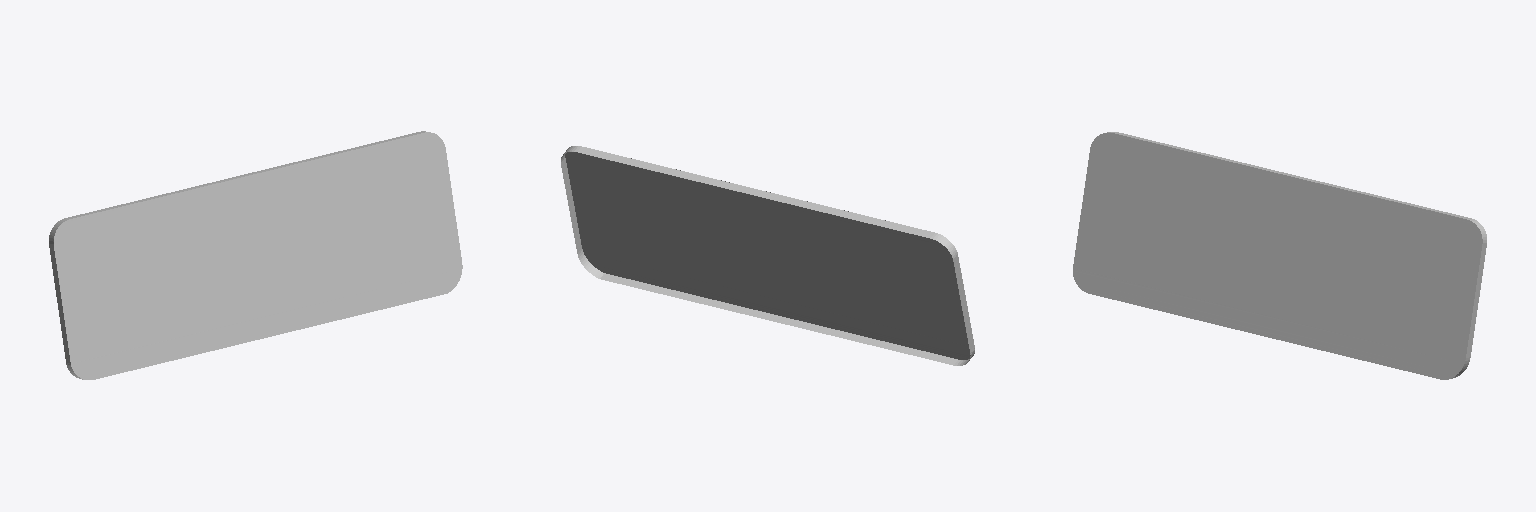
Rendered from original-95.obj.
3 renders of one model, left to right at view 1: azimuth 30°, elevation 25°; view 2: azimuth 150°, elevation 25°; view 3: azimuth 330°, elevation 25°, orthographic.
Parts seen in each view (by area): view 1: group_44/ID558#ID558; view 2: group_44/ID558#ID558; view 3: group_44/ID558#ID558.
Part boxes in pixels (x1,y1,x2,y2): group_44/ID558#ID558: (49,131,462,379); group_44/ID558#ID558: (561,146,974,365); group_44/ID558#ID558: (1073,132,1486,379).
Size of the model in its own units: 0.0881 by 0.0314 by 0.0109.